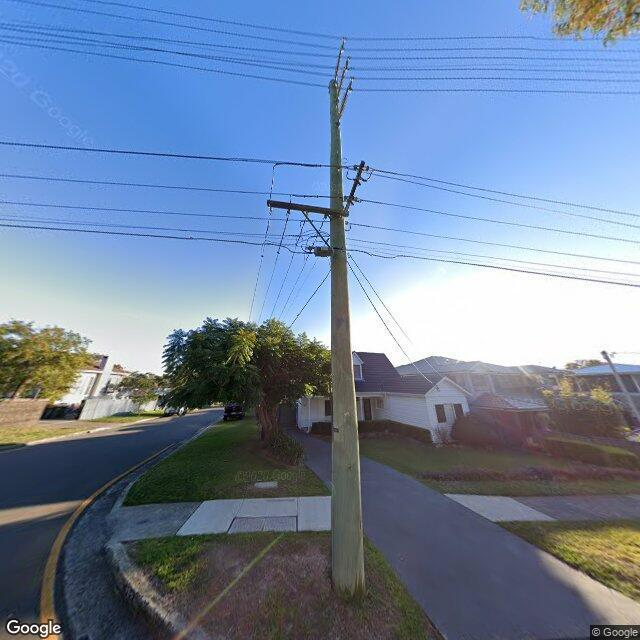HV-transmission: (332, 35, 353, 125)
crossarm: (266, 199, 348, 216), (345, 161, 365, 211)
timber-pole: (328, 80, 366, 603), (600, 350, 640, 424)
